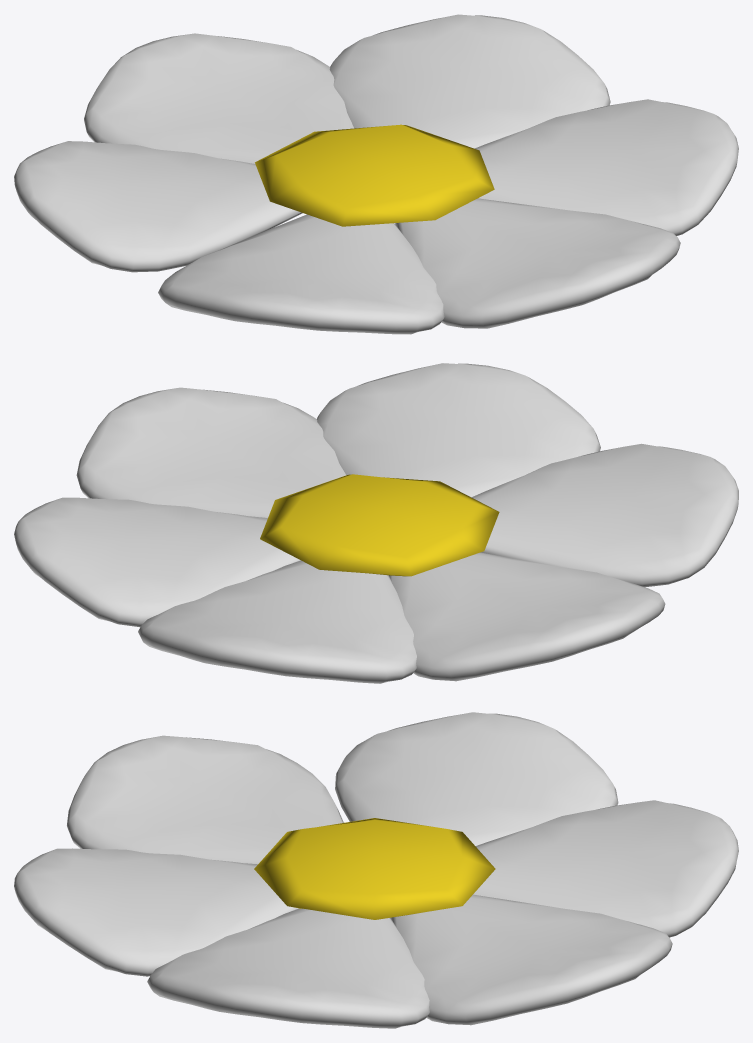
The model's file is Daisy_high.fbx.
3 views of the same model, one above another, from view 1: azimuth 30°, elevation 25°; view 2: azimuth 150°, elevation 25°; view 3: azimuth 270°, elevation 25° (orthographic).
Visible parts, largest first — view 1: Cube.001; view 2: Cube.001; view 3: Cube.001.
Boxes of the visible parts, bbox=[...] form: Cube.001: bbox=[14, 14, 738, 334]; Cube.001: bbox=[14, 363, 738, 683]; Cube.001: bbox=[14, 712, 738, 1028].
Bounding box in the file's own units: 487 × 37.47 × 503.
